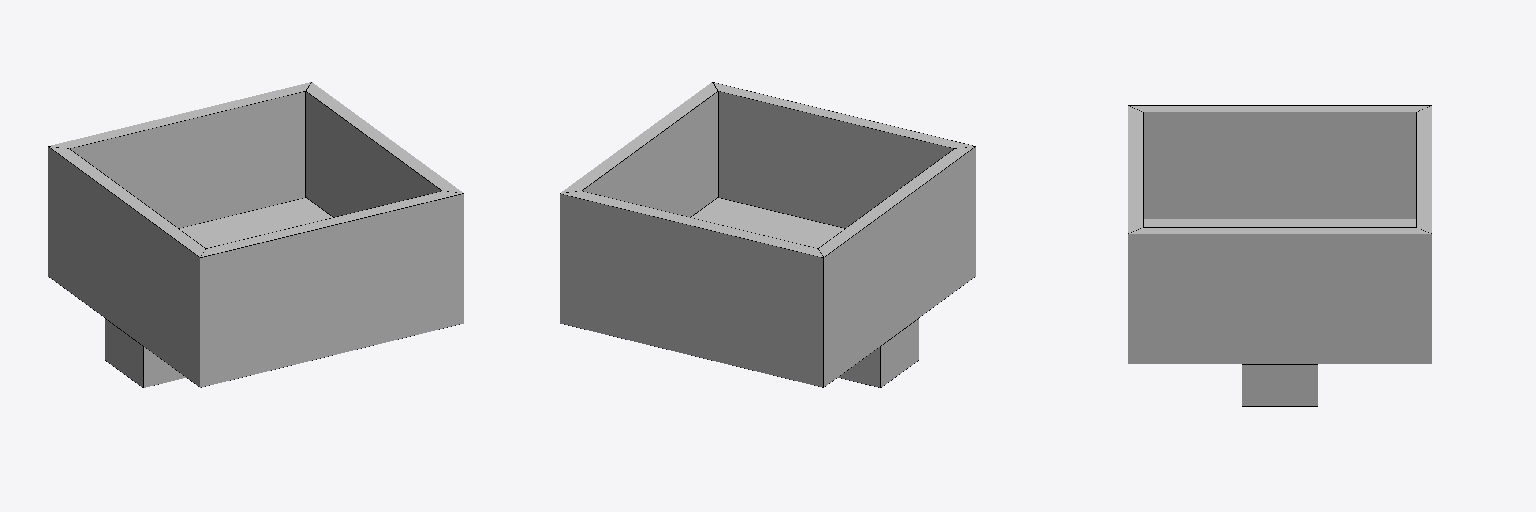
The picture shows the model from 3 angles: view 1: azimuth 30°, elevation 25°; view 2: azimuth 150°, elevation 25°; view 3: azimuth 270°, elevation 25°; orthographic projection.
Parts seen in each view (by area): view 1: cart_Cube.004; view 2: cart_Cube.004; view 3: cart_Cube.004.
Part boxes in pixels (left/top/right/bottom): cart_Cube.004: left=48, top=82, right=463, bottom=387; cart_Cube.004: left=560, top=82, right=975, bottom=387; cart_Cube.004: left=1128, top=105, right=1431, bottom=406.
Size of the model in its own units: 2 by 1.25 by 2.
1 materials, 1 textured.